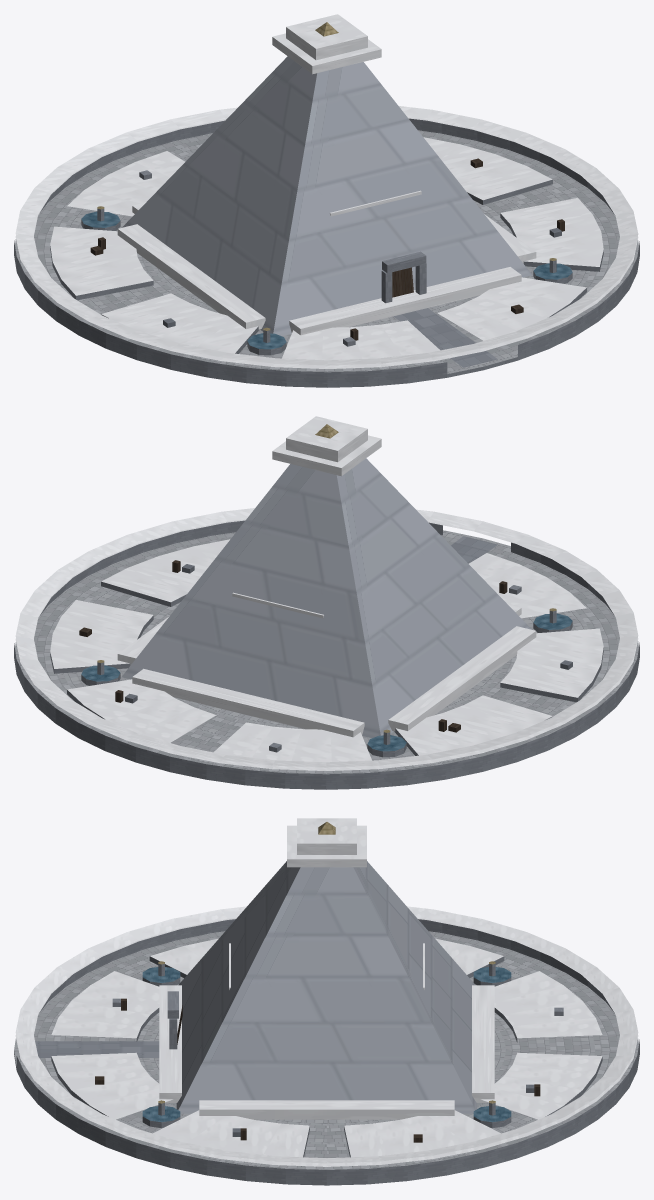
Rendered from pyramid_large_lod0.glb.
3 renders of one model, top to bottom at view 1: azimuth 30°, elevation 25°; view 2: azimuth 150°, elevation 25°; view 3: azimuth 270°, elevation 25°, orthographic.
Visible parts, largest first — view 1: pyramid_large_lod0; view 2: pyramid_large_lod0; view 3: pyramid_large_lod0.
Part boxes in pixels (<box>): pyramid_large_lod0: <box>14,14,639,387</box>; pyramid_large_lod0: <box>14,416,639,789</box>; pyramid_large_lod0: <box>14,818,639,1185</box>.
Size of the model in its own units: 1.89 by 0.779 by 1.9.
1 material, 1 textured.
